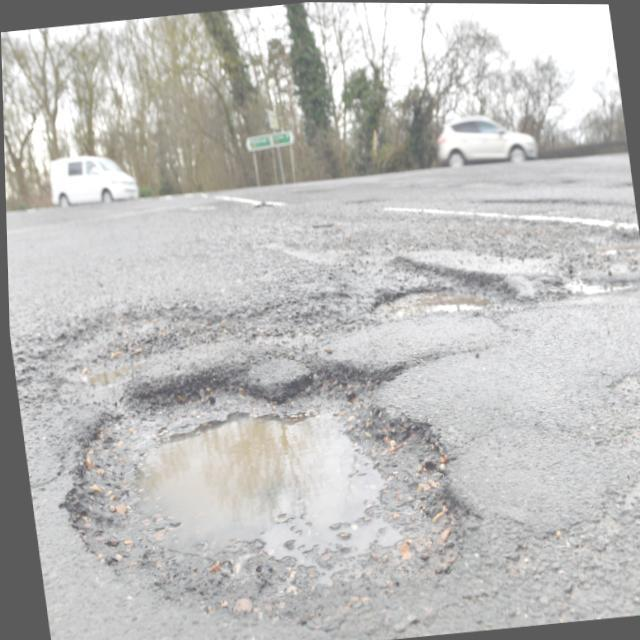Pothole: (66, 350, 474, 628), (364, 278, 520, 316)
